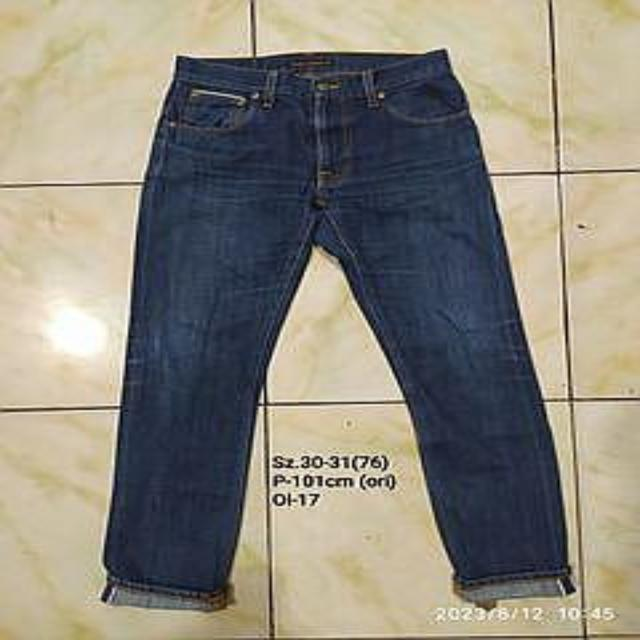TROUSER: (76, 12, 602, 616)
